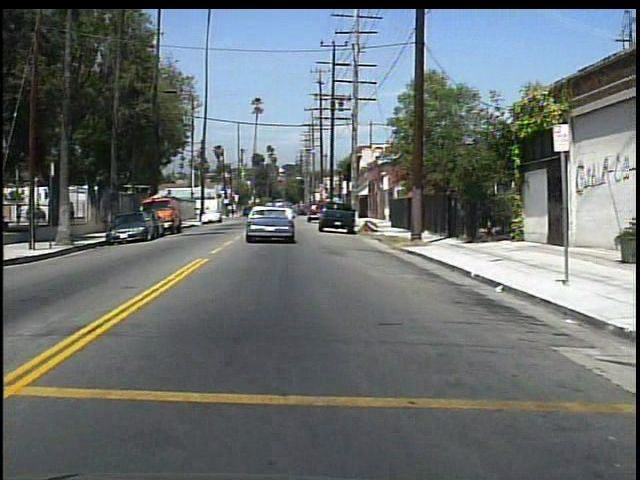person: (13, 201, 29, 227), (67, 198, 80, 228)
